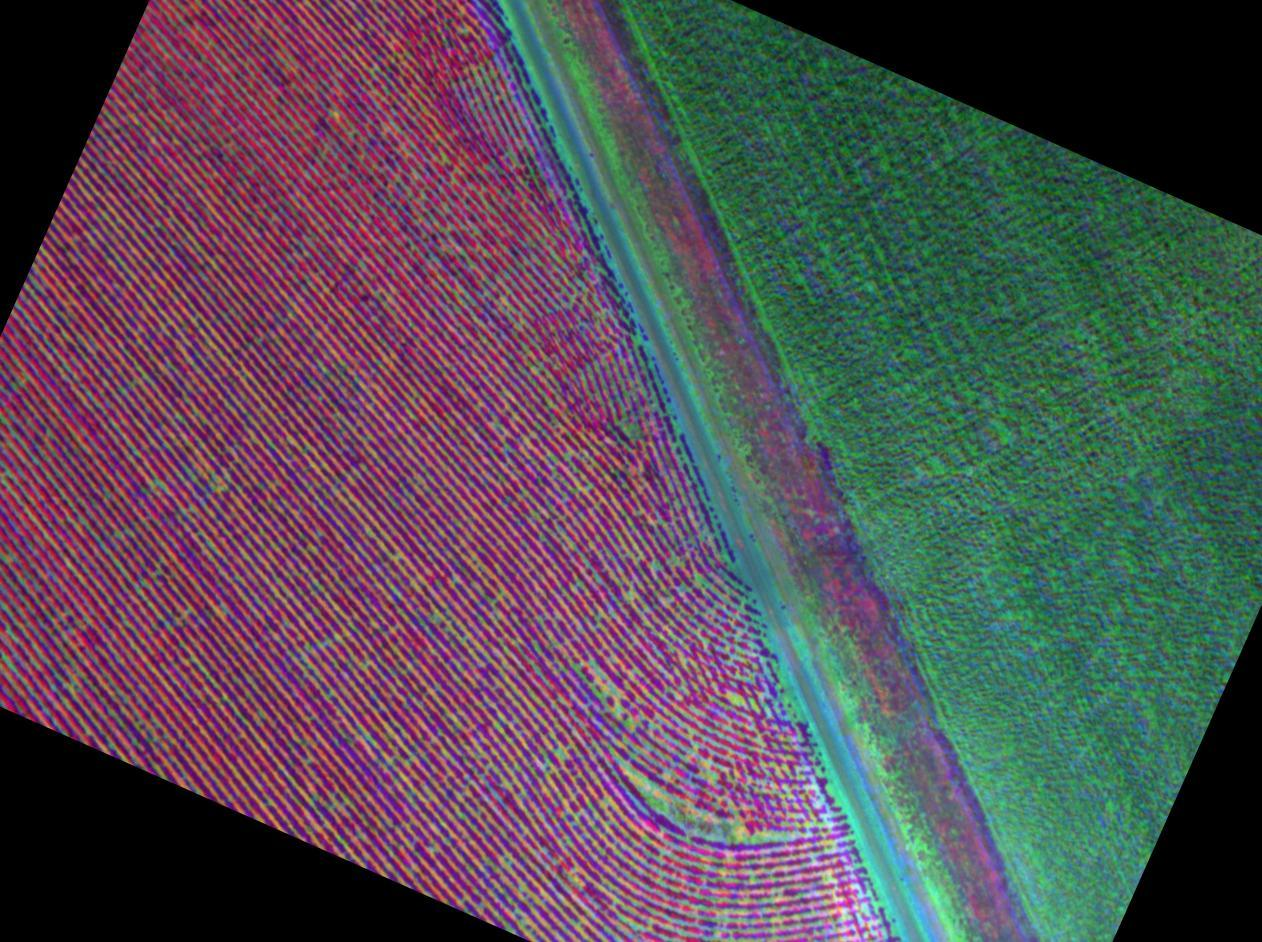dc: (601, 755, 796, 854), (636, 540, 718, 626), (571, 660, 655, 735), (566, 878, 655, 942), (0, 413, 54, 496)
